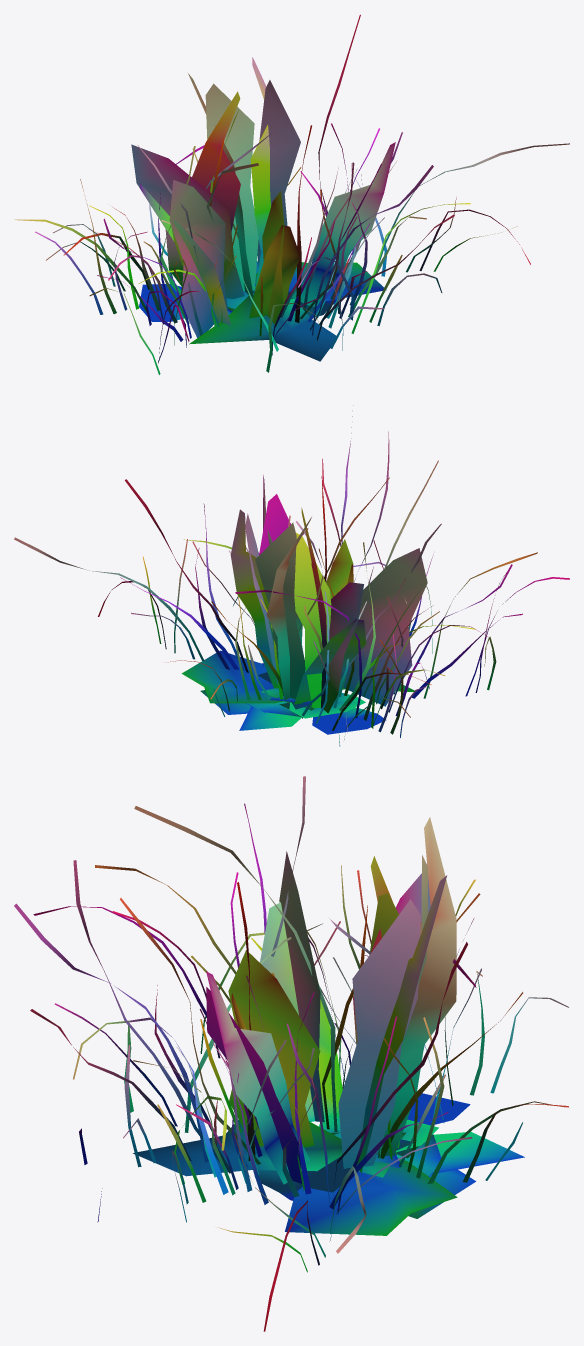
File: uddmcgbia_VarD_LOD0.fbx
3 renders of one model, top to bottom at view 1: azimuth 30°, elevation 25°; view 2: azimuth 150°, elevation 25°; view 3: azimuth 270°, elevation 25°, orthographic. The views are drawn at different scales.
Visible parts, largest first — view 1: _b811_VarD_LOD0; view 2: _b811_VarD_LOD0; view 3: _b811_VarD_LOD0.
Boxes of the visible parts, x1=… form: _b811_VarD_LOD0: x1=14, y1=14, x2=569, y2=374; _b811_VarD_LOD0: x1=14, y1=405, x2=569, y2=746; _b811_VarD_LOD0: x1=14, y1=776, x2=568, y2=1331.
Size of the model in its own units: 16.27 by 7.08 by 10.76.
